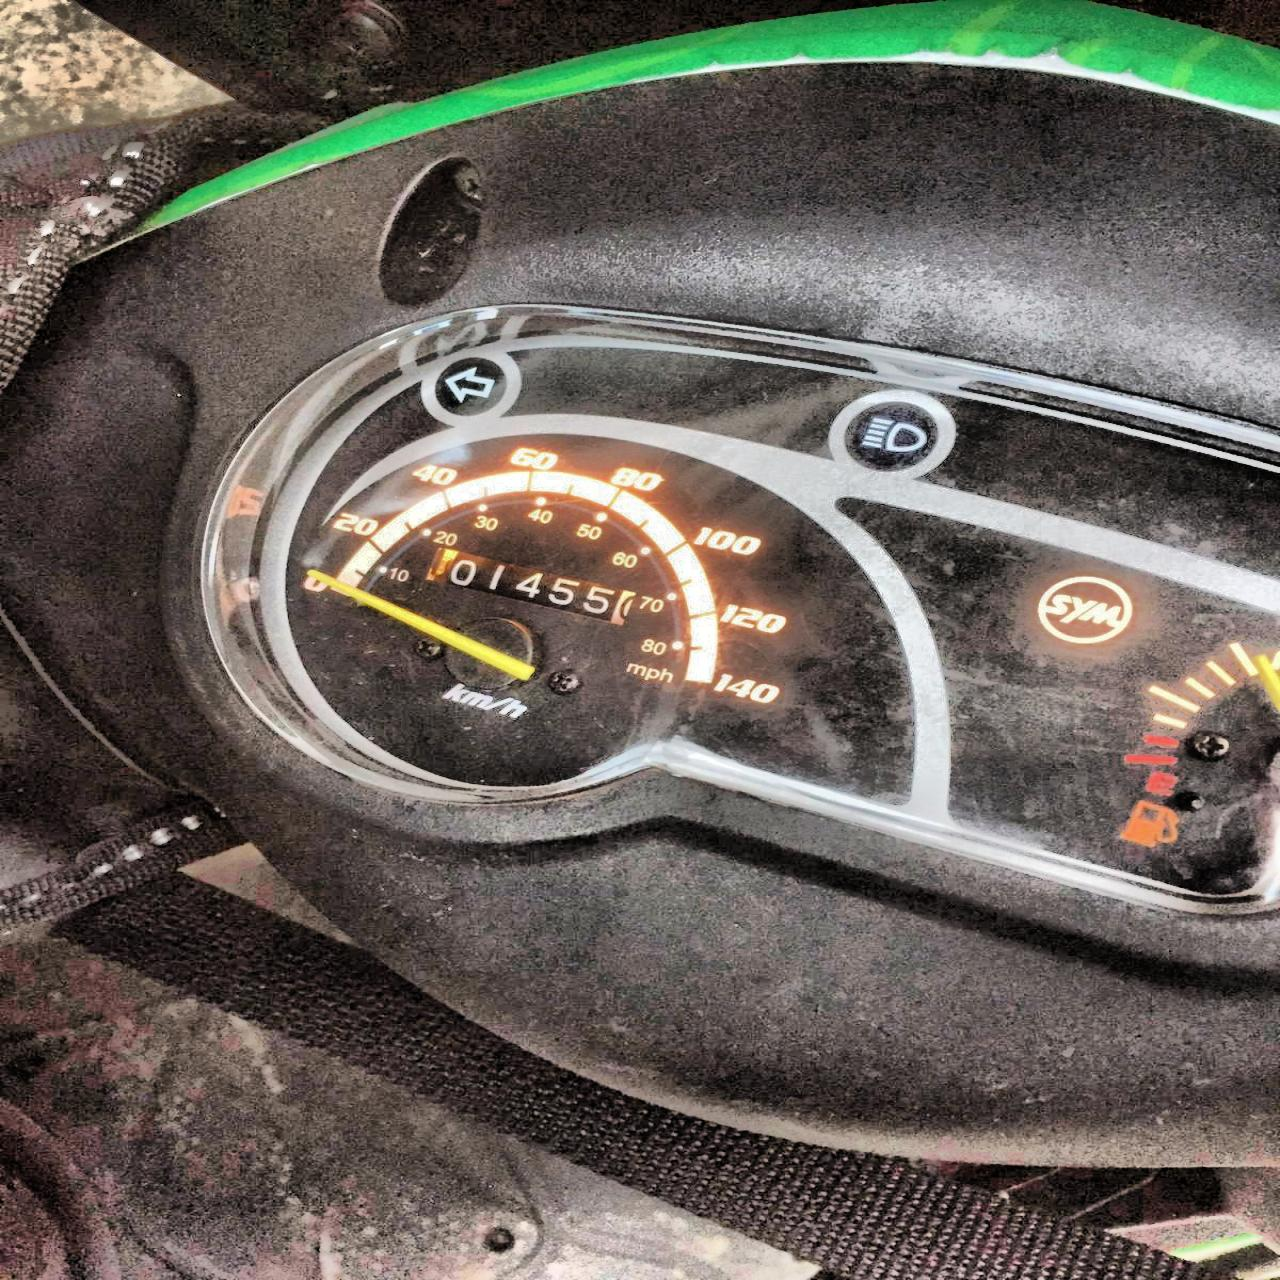0: (445, 556, 476, 588), (618, 591, 636, 622), (624, 552, 636, 568)
1: (485, 563, 505, 594)
4: (513, 570, 542, 599)
5: (547, 576, 580, 606), (581, 583, 614, 612)
6: (611, 550, 625, 565)
odometer: (420, 543, 639, 626)
